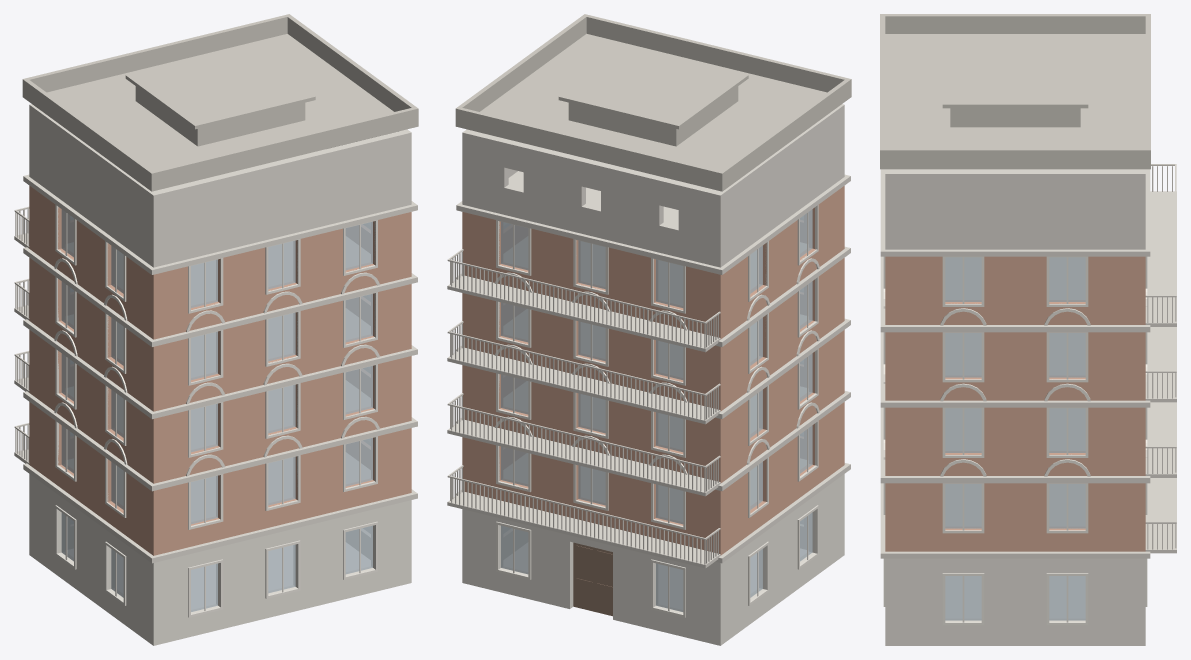
The model's file is envelope.glb.
3 views of the same model, side by side, from view 1: azimuth 30°, elevation 25°; view 2: azimuth 150°, elevation 25°; view 3: azimuth 270°, elevation 25° (orthographic). The views are drawn at different scales.
Visible parts, largest first — view 1: Envelope_Roof, Envelope_Facade_1F, Envelope_Facade_RF, Envelope_Facade_2F, Envelope_Facade_4F, Envelope_Facade_3F, Envelope_Facade_5F, Envelope_Windows_2F, Envelope_Windows_3F, Envelope_Windows_4F, Envelope_Windows_1F, Envelope_Windows_5F; view 2: Envelope_Roof, Envelope_Facade_RF, Envelope_Facade_1F, Envelope_Facade_5F, Envelope_Facade_2F, Envelope_Facade_4F, Envelope_Facade_3F, Envelope_Balcony_5F, Envelope_Balcony_4F, Envelope_Balcony_3F, Envelope_Balcony_2F, Envelope_Windows_5F (+5 smaller); view 3: Envelope_Roof, Envelope_Facade_1F, Envelope_Facade_RF, Envelope_Facade_2F, Envelope_Facade_4F, Envelope_Facade_3F, Envelope_Facade_5F, Envelope_Windows_4F, Envelope_Windows_2F, Envelope_Windows_3F, Envelope_Windows_1F, Envelope_Windows_5F (+4 smaller).
Part boxes in pixels (x1,y1,x2,y2): Envelope_Roof: (22, 14, 418, 191); Envelope_Facade_1F: (23, 453, 417, 645); Envelope_Facade_RF: (29, 104, 411, 267); Envelope_Facade_2F: (23, 381, 417, 555); Envelope_Facade_4F: (23, 237, 417, 411); Envelope_Facade_3F: (23, 309, 417, 483); Envelope_Facade_5F: (23, 151, 417, 339); Envelope_Windows_2F: (54, 402, 379, 529); Envelope_Windows_3F: (54, 330, 379, 457); Envelope_Windows_4F: (54, 258, 379, 385); Envelope_Windows_1F: (55, 505, 377, 617); Envelope_Windows_5F: (55, 205, 377, 313); Envelope_Roof: (455, 14, 851, 191); Envelope_Facade_RF: (462, 104, 844, 267); Envelope_Facade_1F: (456, 453, 850, 645); Envelope_Facade_5F: (456, 154, 850, 339); Envelope_Facade_2F: (456, 381, 850, 555); Envelope_Facade_4F: (456, 237, 850, 411); Envelope_Facade_3F: (456, 309, 850, 483); Envelope_Balcony_5F: (447, 249, 720, 352); Envelope_Balcony_4F: (447, 321, 720, 424); Envelope_Balcony_3F: (447, 393, 720, 496); Envelope_Balcony_2F: (447, 465, 720, 568); Envelope_Windows_5F: (496, 205, 818, 313); Envelope_Roof: (880, 14, 1150, 169); Envelope_Facade_1F: (880, 483, 1150, 645); Envelope_Facade_RF: (885, 169, 1145, 249); Envelope_Facade_2F: (880, 407, 1150, 551); Envelope_Facade_4F: (880, 256, 1150, 400); Envelope_Facade_3F: (880, 332, 1150, 475); Envelope_Facade_5F: (880, 169, 1150, 324); Envelope_Windows_4F: (883, 288, 1147, 382); Envelope_Windows_2F: (883, 439, 1147, 533); Envelope_Windows_3F: (883, 364, 1147, 457); Envelope_Windows_1F: (883, 558, 1147, 625); Envelope_Windows_5F: (883, 256, 1147, 306).
Size of the model in its own units: 12.4 by 21.45 by 11.4.
